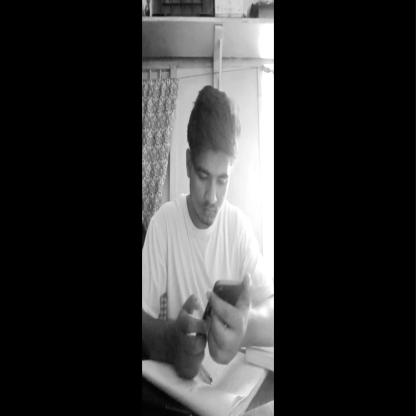Normal: (186, 86, 238, 233)
